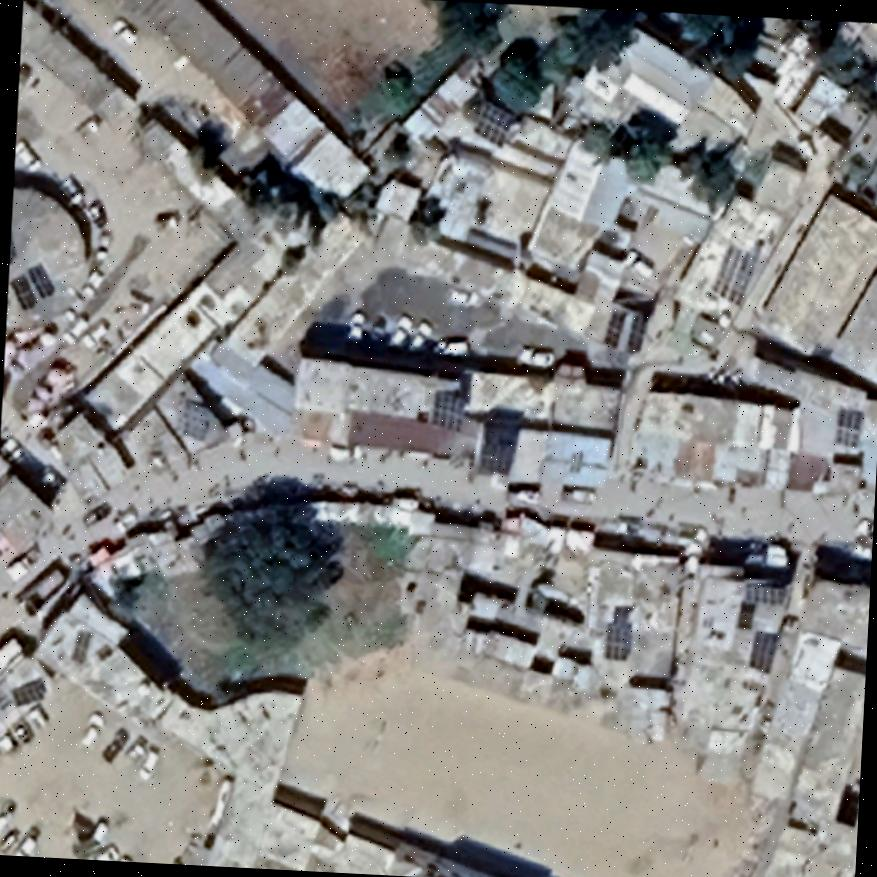Solarpanel: (474, 423, 521, 478), (471, 99, 518, 149), (428, 387, 468, 434), (748, 626, 782, 675), (833, 404, 867, 451), (23, 260, 60, 302), (602, 618, 635, 662), (6, 271, 40, 313), (602, 304, 630, 352), (624, 308, 650, 356), (871, 129, 877, 184)
